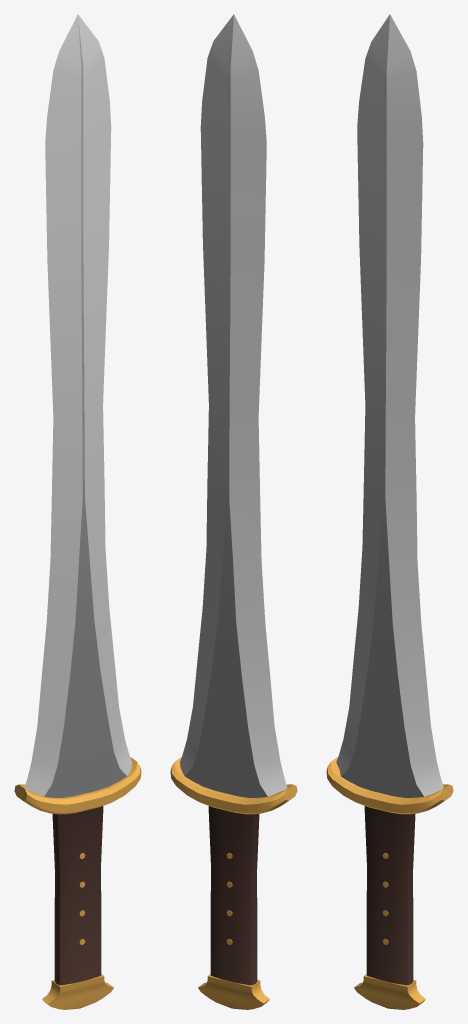
Rendered from SM_Sword19_Xiphos_3Silver.fbx.
The picture shows the model from 3 angles, left to right: view 1: azimuth 30°, elevation 25°; view 2: azimuth 150°, elevation 25°; view 3: azimuth 330°, elevation 25°; orthographic projection.
Parts seen in each view (by area): view 1: Cube.399, Cube.401, Cube.400, Cube.402; view 2: Cube.399, Cube.401, Cube.400, Cube.402; view 3: Cube.399, Cube.401, Cube.400, Cube.402.
Part boxes in pixels (x1=…): Cube.399: x1=24, y1=14, x2=131, y2=797; Cube.401: x1=52, y1=806, x2=103, y2=985; Cube.400: x1=14, y1=757, x2=141, y2=814; Cube.402: x1=42, y1=974, x2=113, y2=1009; Cube.399: x1=180, y1=14, x2=287, y2=797; Cube.401: x1=208, y1=806, x2=259, y2=985; Cube.400: x1=170, y1=757, x2=297, y2=814; Cube.402: x1=198, y1=974, x2=269, y2=1009; Cube.399: x1=336, y1=14, x2=443, y2=797; Cube.401: x1=364, y1=806, x2=415, y2=985; Cube.400: x1=326, y1=757, x2=453, y2=814; Cube.402: x1=354, y1=974, x2=425, y2=1009.
Size of the model in its own units: 0.0868 by 0.7078 by 0.0316.
